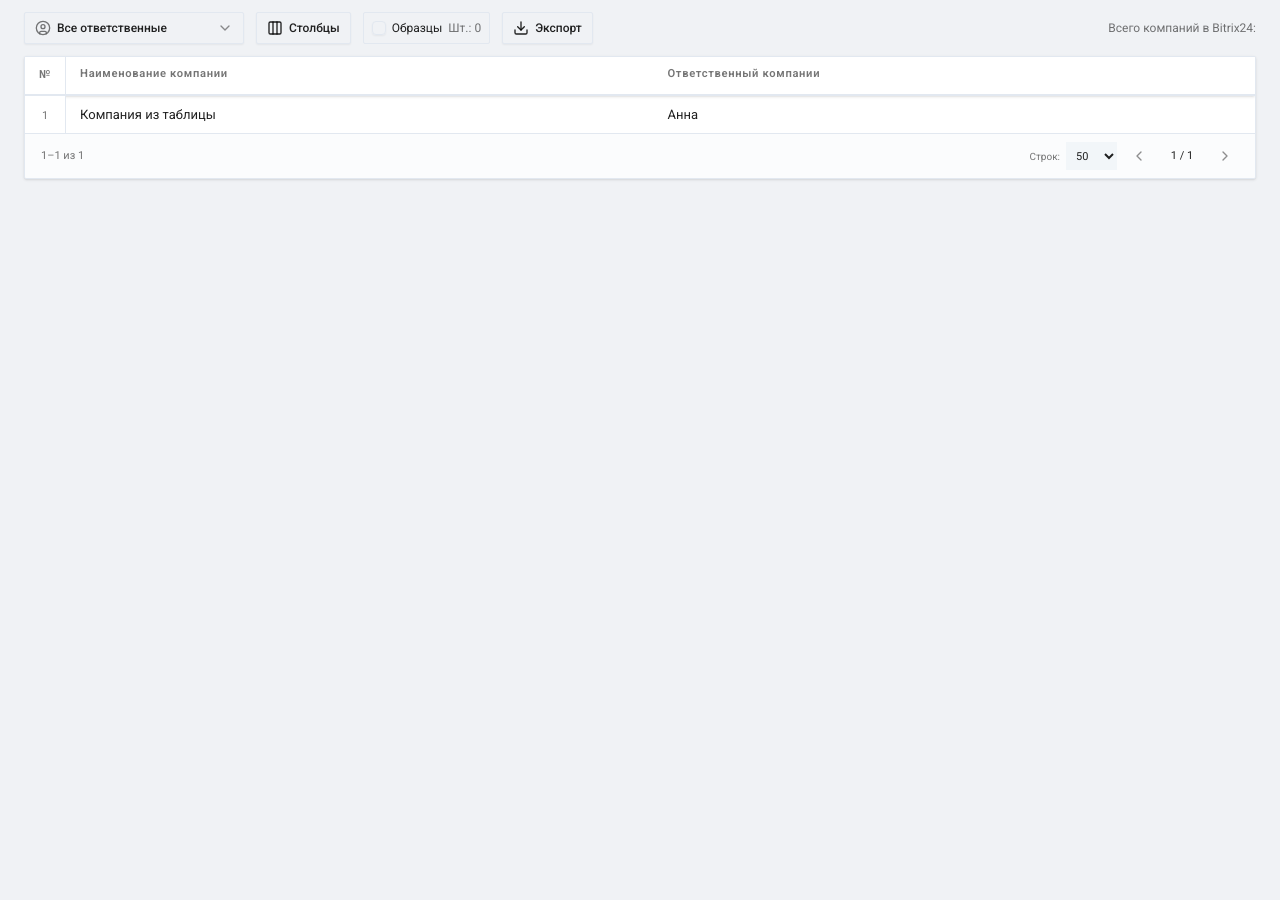
Test: keeps details visible when the portal link is not configured
What coordinates should you click on to do the following:
click the button "Компания из таблицы"
I would click on:
 (148, 115)
Its box is [80, 105, 216, 124].
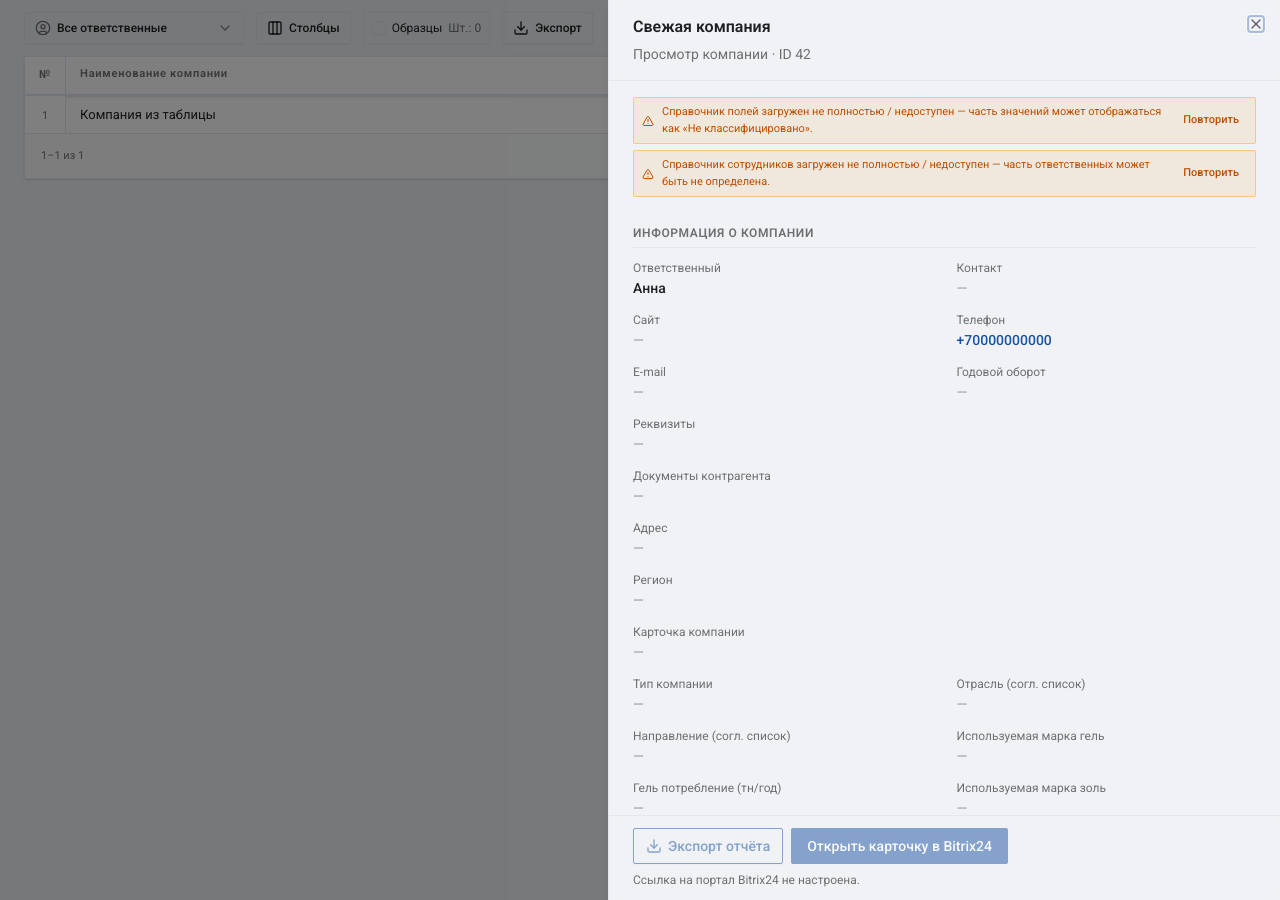
Now the heading "Свежая компания" is shown, box [633, 17, 771, 36]
Now the button "Открыть карточку в Bitrix24" is disabled, box [791, 828, 1008, 864]
Now the text "Ссылка на портал Bitrix24 не настроена." is shown, box [633, 873, 860, 887]
